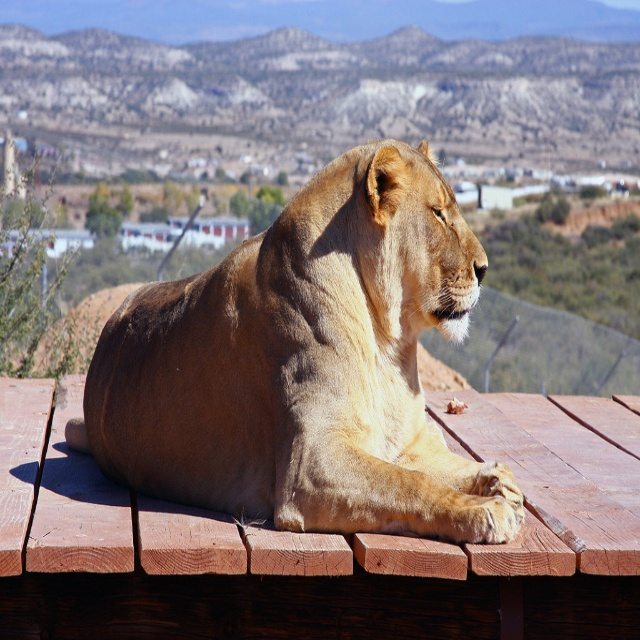Lion: (64, 135, 524, 544)
